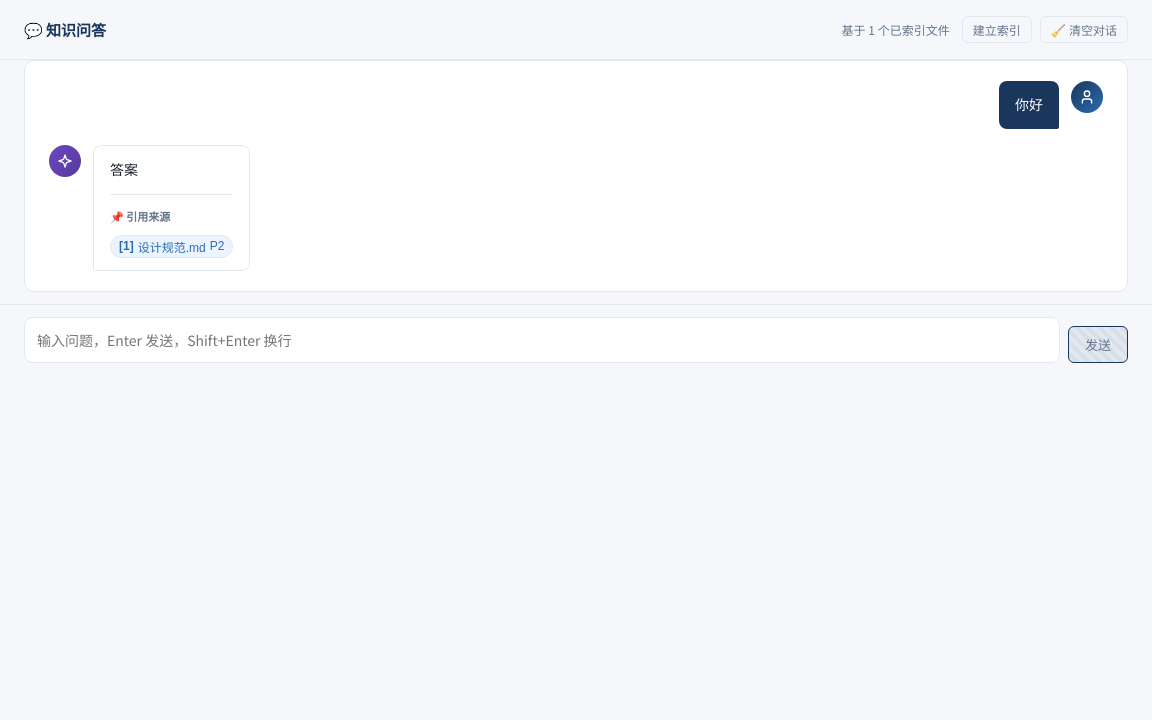
Test case: ChatPage › opens preview when citation clicked under StrictMode
Click the button "[1] 设计规范.md P2".
click(172, 246)  # box top-left (110, 235), bottom-right (233, 258)
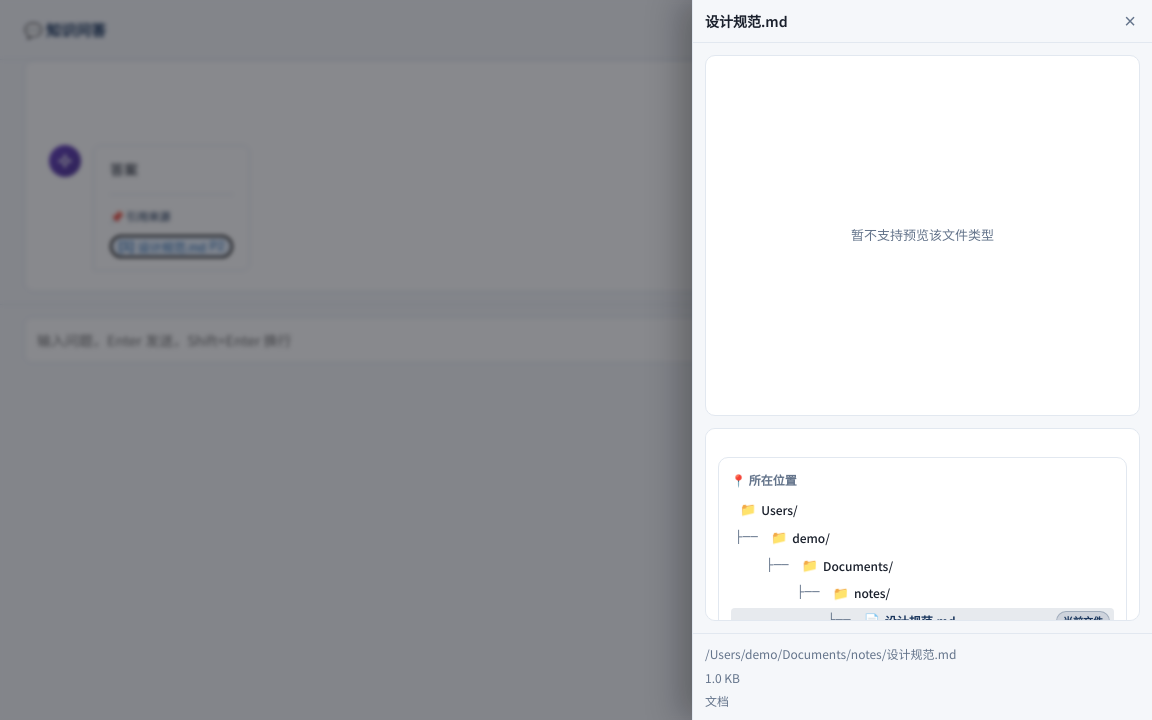
Now the dialog is shown
